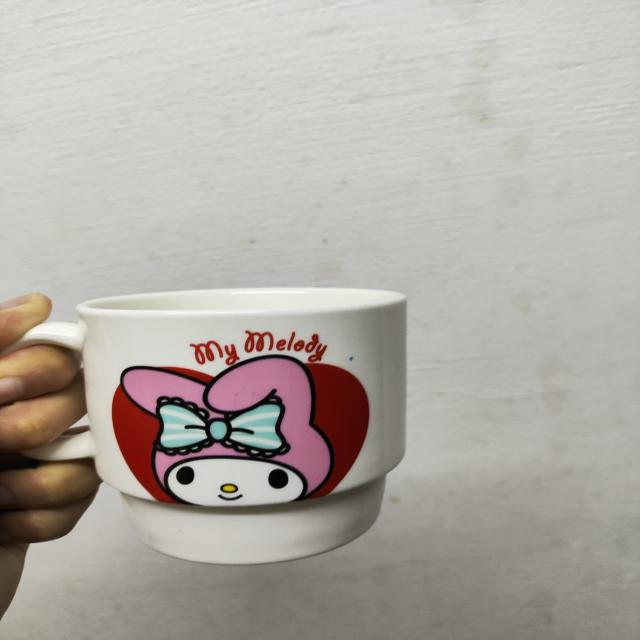cup: (15, 269, 429, 570)
